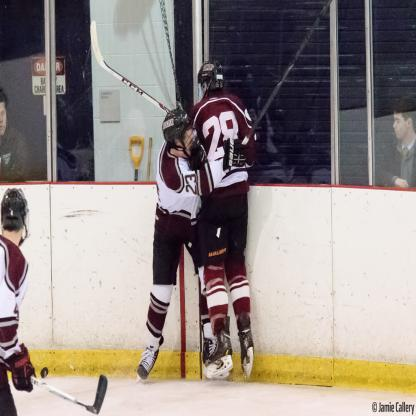Helmet: (0, 184, 31, 247), (161, 106, 195, 160), (196, 57, 226, 101)
